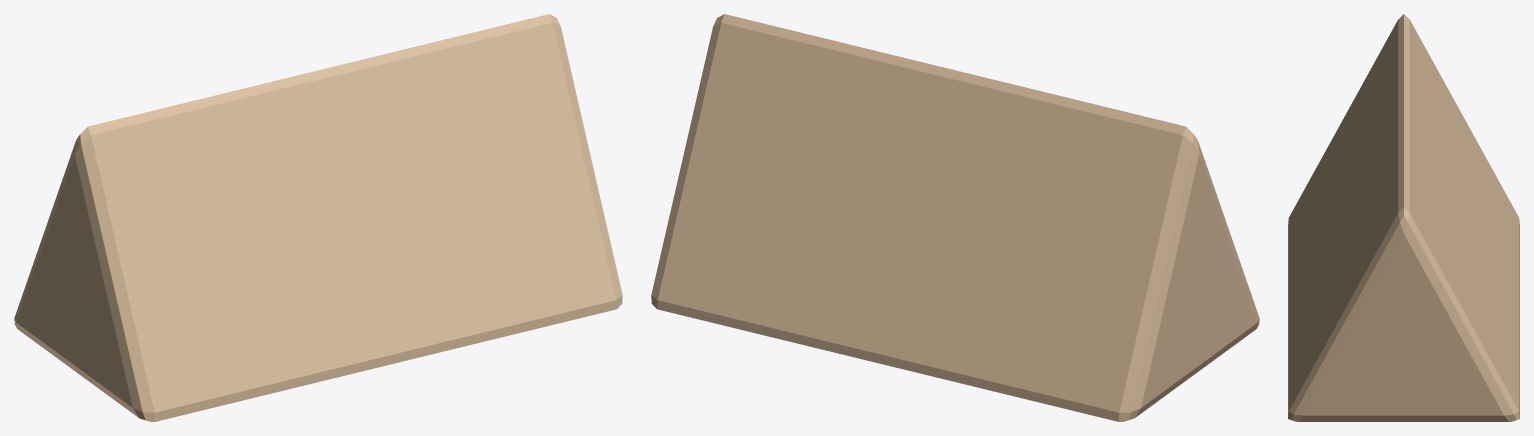
Rendered from toy_roof.glb.
3 renders of one model, left to right at view 1: azimuth 30°, elevation 25°; view 2: azimuth 150°, elevation 25°; view 3: azimuth 270°, elevation 25°, orthographic. The views are drawn at different scales.
Parts seen in each view (by area): view 1: toy_roof; view 2: toy_roof; view 3: toy_roof.
Boxes of the visible parts, <box> form: toy_roof: <box>14,14,622,421</box>; toy_roof: <box>651,14,1259,421</box>; toy_roof: <box>1288,14,1519,421</box>.
Size of the model in its own units: 0.06 by 0.0293 by 0.0288.
